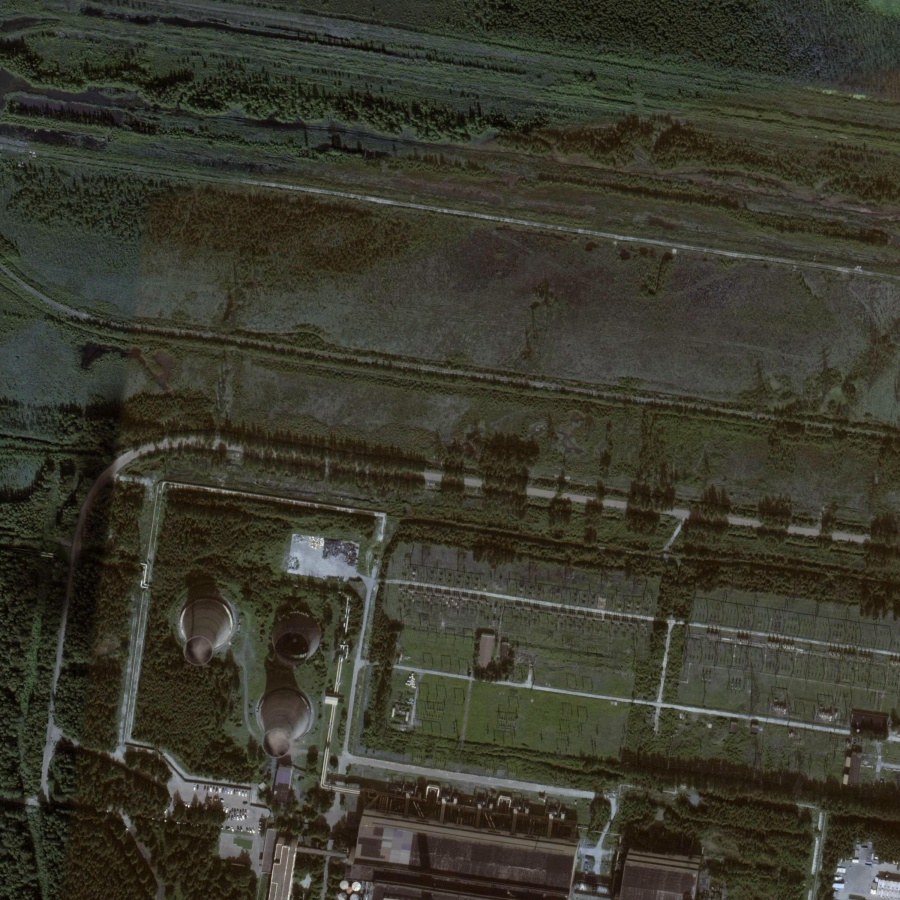PowerPlant: (152, 534, 351, 780)
